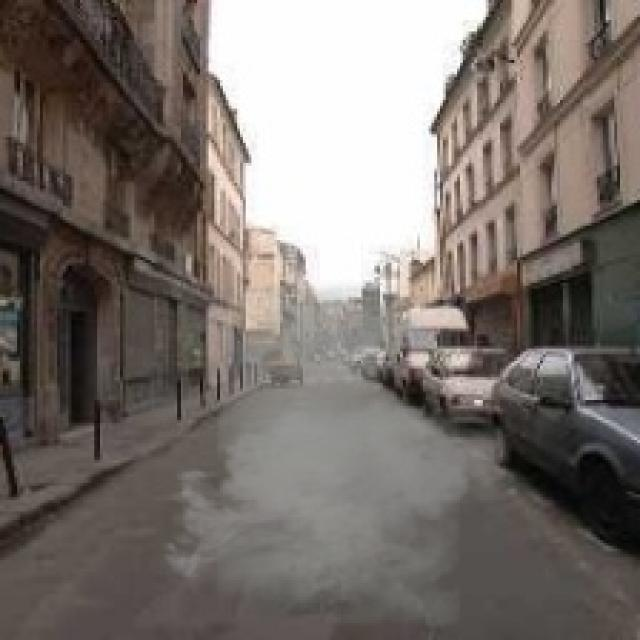Smoke: (151, 280, 526, 626)
